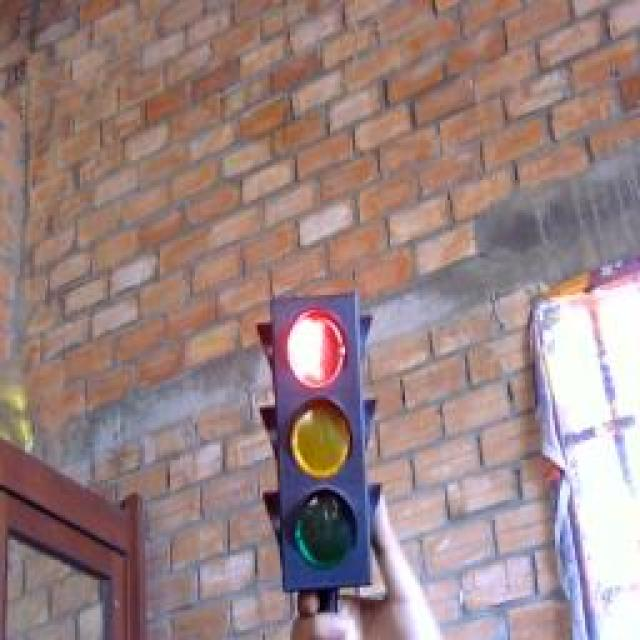-: (281, 306, 356, 394)
